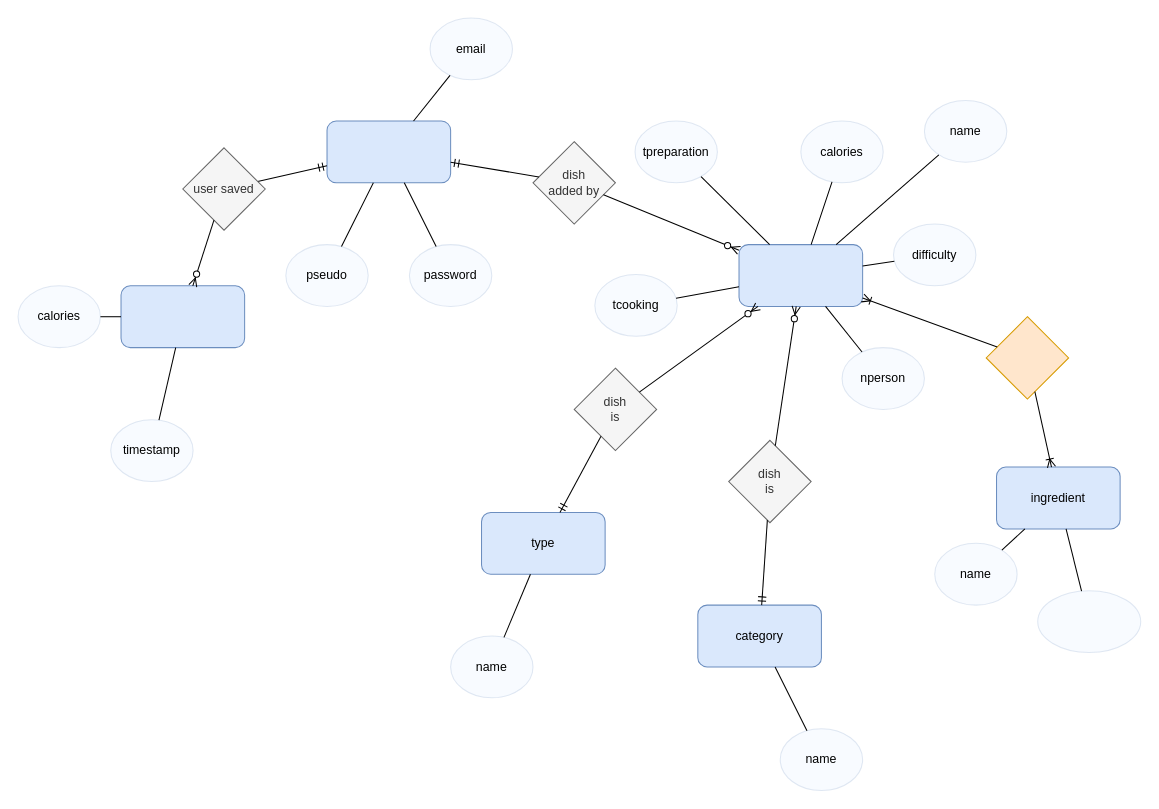
This 1159x809 diagram has some shape labels left out. The shapes that lost their labels are listed below. From the top down, each one's centre as x and y in pixels, then its label:
At [388,151]: "user".
At [800,275]: "dish".
At [182,316]: "result".
At [1027,357]: "dish have".
At [1089,621]: "caloriesPer100g".
